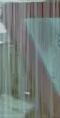Give way: (1, 1, 57, 107)
